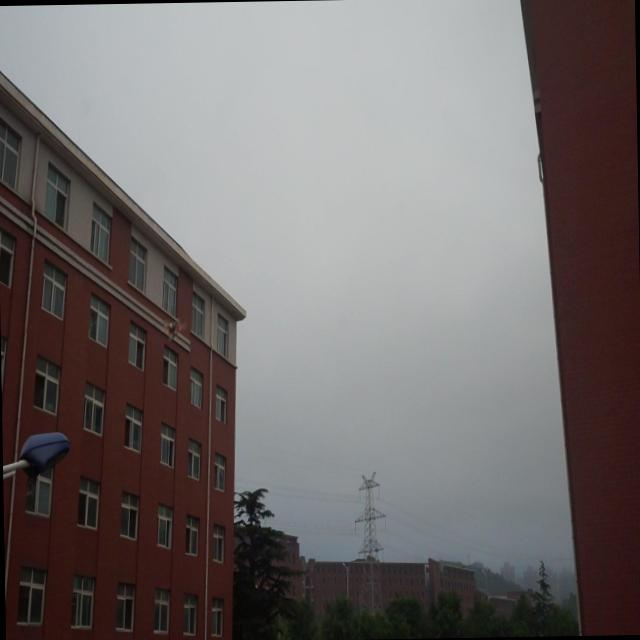drone: (159, 312, 186, 344)
